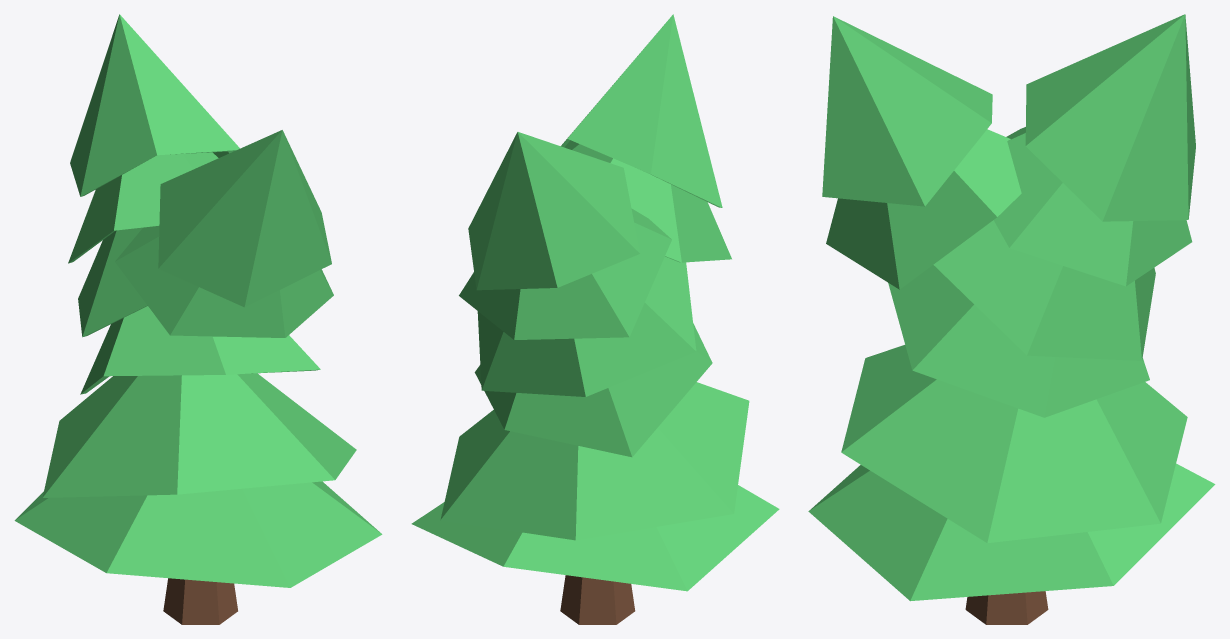
Rendered from fir_tree_poly_9.fbx.
The picture shows the model from 3 angles, left to right: view 1: azimuth 30°, elevation 25°; view 2: azimuth 150°, elevation 25°; view 3: azimuth 270°, elevation 25°; orthographic projection. The views are drawn at different scales.
Visible parts, largest first — view 1: fir_tree_poly_9; view 2: fir_tree_poly_9; view 3: fir_tree_poly_9.
Boxes of the visible parts, <box> form: fir_tree_poly_9: <box>14,14,382,624</box>; fir_tree_poly_9: <box>411,14,779,624</box>; fir_tree_poly_9: <box>808,14,1215,624</box>.
Bounding box in the file's own units: 1.89 × 3.3 × 2.05.
